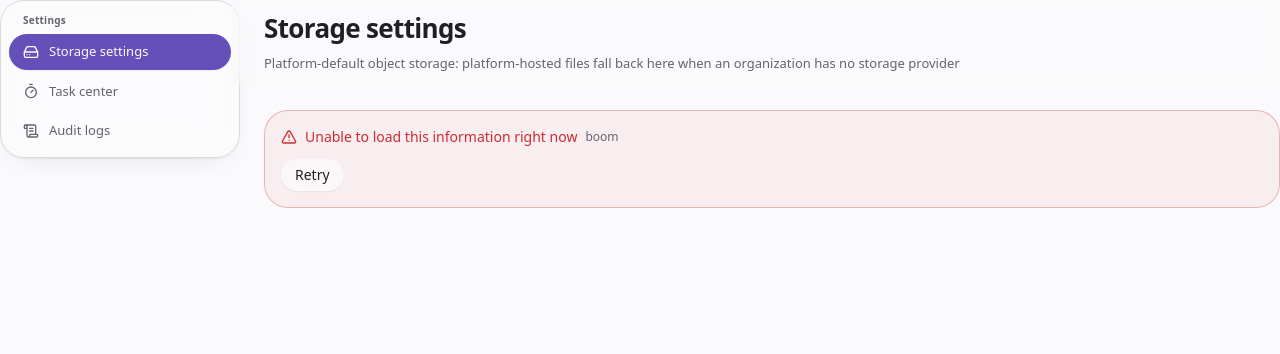
Test: StorageSettingsPage › 读取失败：显式报错并可重试，绝不退化成「未配置」
Expected: the text "Unable to load this information right now" is shown, 305,127 -> 577,147
Expected: the button "Configure storage" is not shown
Click the button "Retry". click: click(312, 175)
box: 281,159 -> 344,191
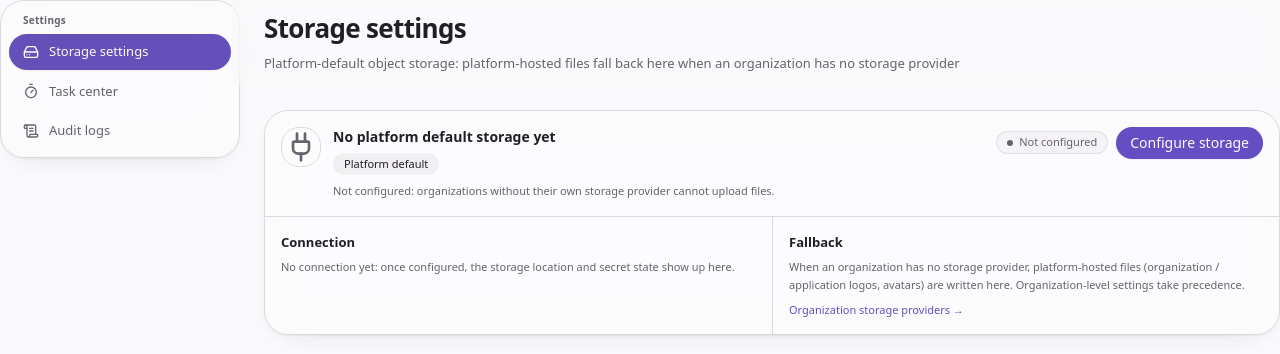
Result: the button "Configure storage" is shown at 1116,127 -> 1263,159
